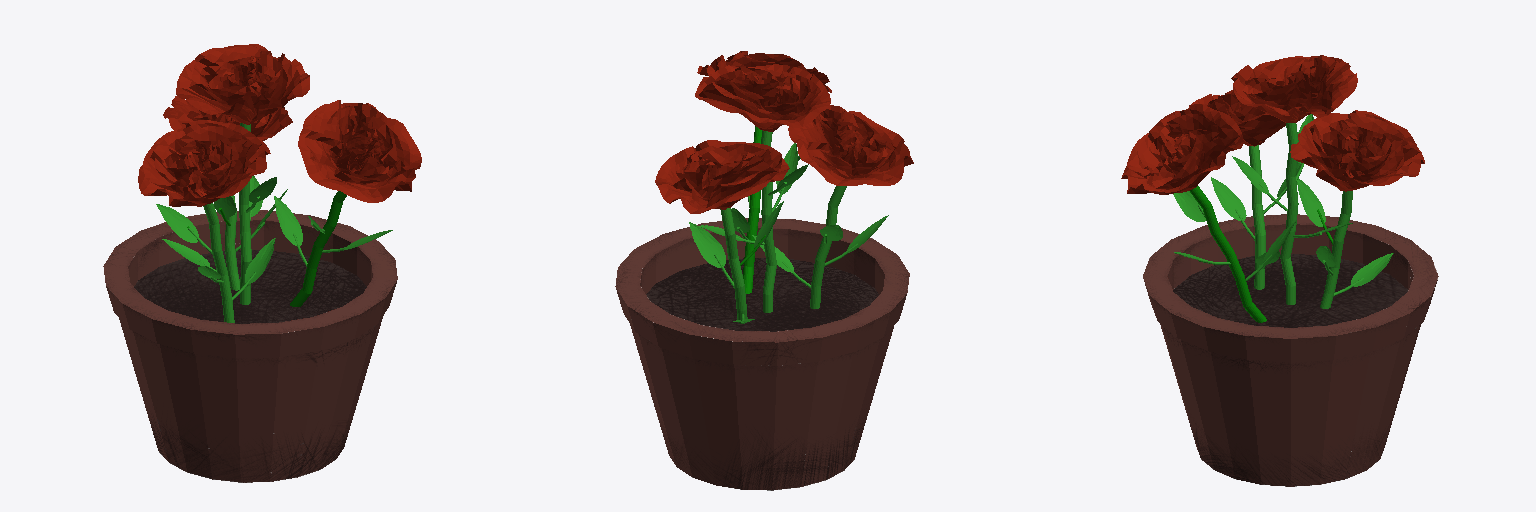
3 views of the same model, side by side, from view 1: azimuth 30°, elevation 25°; view 2: azimuth 150°, elevation 25°; view 3: azimuth 270°, elevation 25° (orthographic).
Parts seen in each view (by area): view 1: pot_aiStandardSurface3SG, pot_aiStandardSurface3SG_1, pot_aiStandardSurface4SG, FlowersInPot_aiStandardSurface1SG, FlowersInPot_aiStandardSurface1SG_9, FlowersInPot_aiStandardSurface1SG_10, FlowersInPot_aiStandardSurface1SG_20, FlowersInPot_aiStandardSurface1SG_18, FlowersInPot_aiStandardSurface1SG_17, FlowersInPot_aiStandardSurface1SG_11, FlowersInPot_aiStandardSurface1SG_12, FlowersInPot_aiStandardSurface1SG_19 (+10 smaller); view 2: pot_aiStandardSurface3SG, pot_aiStandardSurface3SG_1, pot_aiStandardSurface4SG, FlowersInPot_aiStandardSurface1SG, FlowersInPot_aiStandardSurface1SG_17, FlowersInPot_aiStandardSurface1SG_1, FlowersInPot_aiStandardSurface1SG_2, FlowersInPot_aiStandardSurface1SG_3, FlowersInPot_aiStandardSurface2SG_6, FlowersInPot_aiStandardSurface1SG_20, FlowersInPot_aiStandardSurface1SG_18, FlowersInPot_aiStandardSurface2SG_13 (+6 smaller); view 3: pot_aiStandardSurface3SG, pot_aiStandardSurface3SG_1, pot_aiStandardSurface4SG, FlowersInPot_aiStandardSurface1SG, FlowersInPot_aiStandardSurface1SG_4, FlowersInPot_aiStandardSurface1SG_10, FlowersInPot_aiStandardSurface1SG_11, FlowersInPot_aiStandardSurface1SG_1, FlowersInPot_aiStandardSurface2SG_6, FlowersInPot_aiStandardSurface1SG_2, FlowersInPot_aiStandardSurface2SG_20, FlowersInPot_aiStandardSurface1SG_9 (+10 smaller).
Boxes of the visible parts, <box> form: pot_aiStandardSurface3SG: <box>119,317,382,482</box>; pot_aiStandardSurface3SG_1: <box>103,210,397,357</box>; pot_aiStandardSurface4SG: <box>134,250,366,323</box>; FlowersInPot_aiStandardSurface1SG: <box>176,44,309,124</box>; FlowersInPot_aiStandardSurface1SG_9: <box>298,103,421,202</box>; FlowersInPot_aiStandardSurface1SG_10: <box>305,100,409,188</box>; FlowersInPot_aiStandardSurface1SG_20: <box>163,126,246,193</box>; FlowersInPot_aiStandardSurface1SG_18: <box>143,120,261,197</box>; FlowersInPot_aiStandardSurface1SG_17: <box>138,138,270,206</box>; FlowersInPot_aiStandardSurface1SG_11: <box>315,105,403,184</box>; FlowersInPot_aiStandardSurface1SG_12: <box>329,105,392,175</box>; FlowersInPot_aiStandardSurface1SG_19: <box>150,123,252,195</box>; pot_aiStandardSurface3SG: <box>630,325,893,490</box>; pot_aiStandardSurface3SG_1: <box>615,218,909,365</box>; pot_aiStandardSurface4SG: <box>646,258,878,331</box>; FlowersInPot_aiStandardSurface1SG: <box>695,64,830,131</box>; FlowersInPot_aiStandardSurface1SG_17: <box>788,111,913,185</box>; FlowersInPot_aiStandardSurface1SG_1: <box>655,140,789,213</box>; FlowersInPot_aiStandardSurface1SG_2: <box>666,142,781,208</box>; FlowersInPot_aiStandardSurface1SG_3: <box>676,144,771,201</box>; FlowersInPot_aiStandardSurface2SG_6: <box>761,130,776,312</box>; FlowersInPot_aiStandardSurface1SG_20: <box>817,109,886,172</box>; FlowersInPot_aiStandardSurface1SG_18: <box>801,105,896,178</box>; FlowersInPot_aiStandardSurface2SG_13: <box>720,208,747,323</box>; pot_aiStandardSurface3SG: <box>1160,324,1420,486</box>; pot_aiStandardSurface3SG_1: <box>1143,214,1438,362</box>; pot_aiStandardSurface4SG: <box>1173,254,1407,327</box>; FlowersInPot_aiStandardSurface1SG: <box>1231,55,1357,122</box>; FlowersInPot_aiStandardSurface1SG_4: <box>1320,117,1407,176</box>; FlowersInPot_aiStandardSurface1SG_10: <box>1127,104,1239,190</box>; FlowersInPot_aiStandardSurface1SG_11: <box>1137,109,1226,185</box>; FlowersInPot_aiStandardSurface1SG_1: <box>1290,133,1424,191</box>; FlowersInPot_aiStandardSurface2SG_6: <box>1280,123,1298,304</box>; FlowersInPot_aiStandardSurface1SG_2: <box>1300,110,1419,182</box>; FlowersInPot_aiStandardSurface2SG_20: <box>1190,186,1266,322</box>; FlowersInPot_aiStandardSurface1SG_9: <box>1121,110,1243,194</box>.
Bounding box in the file's own units: 11.96 × 17.04 × 12.83.
4 materials, 4 textured.